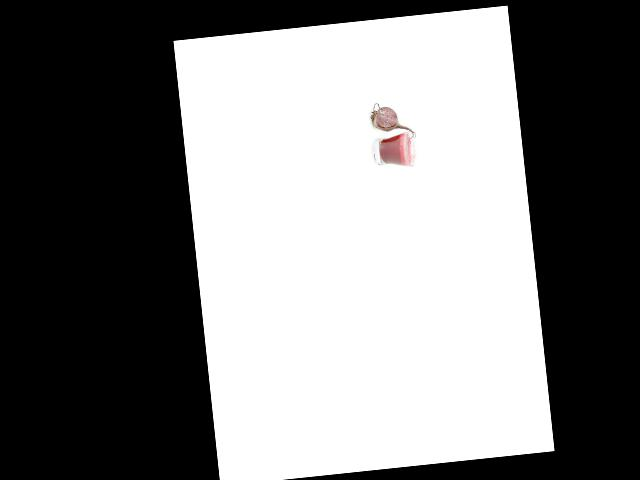beet: (368, 99, 416, 148)
